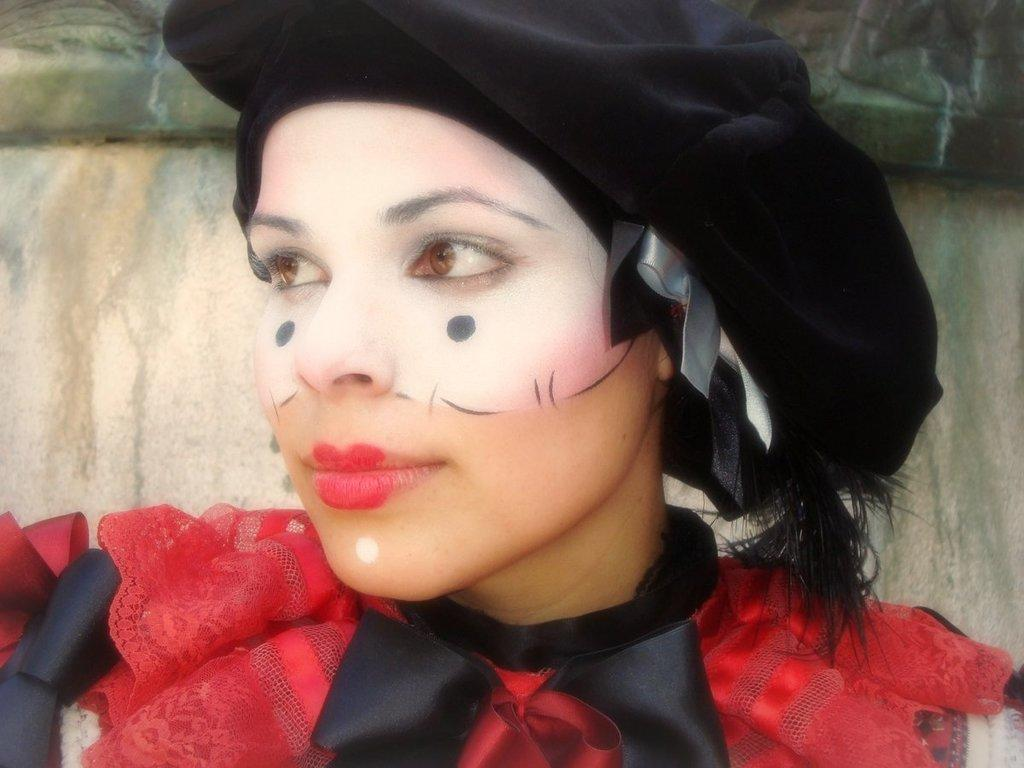Hat: (158, 0, 946, 515)
